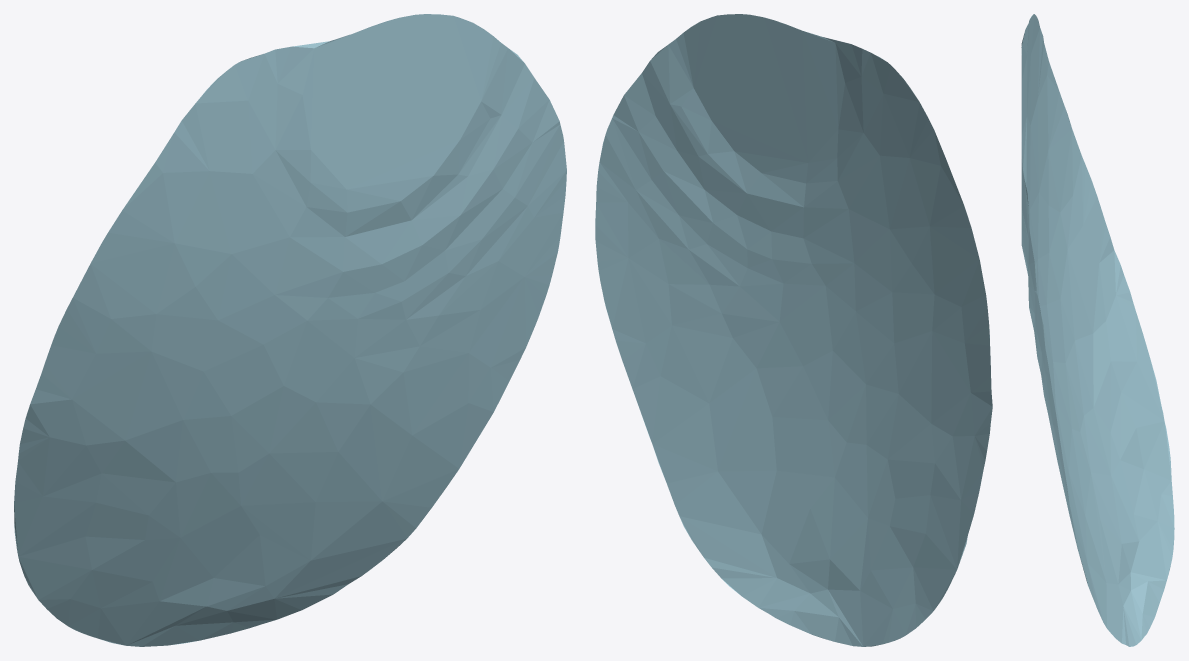
Rendered from tumorProjExpUpdate.obj.
The picture shows the model from 3 angles, left to right: view 1: azimuth 30°, elevation 25°; view 2: azimuth 150°, elevation 25°; view 3: azimuth 270°, elevation 25°; orthographic projection. The views are drawn at different scales.
Parts seen in each view (by area): view 1: grp1; view 2: grp1; view 3: grp1.
Part boxes in pixels (x1,y1,x2,y2): grp1: [14, 14, 566, 646]; grp1: [595, 14, 992, 646]; grp1: [1021, 14, 1174, 646].
Bounding box in the file's own units: 0.0485 × 0.0594 × 0.0137.
